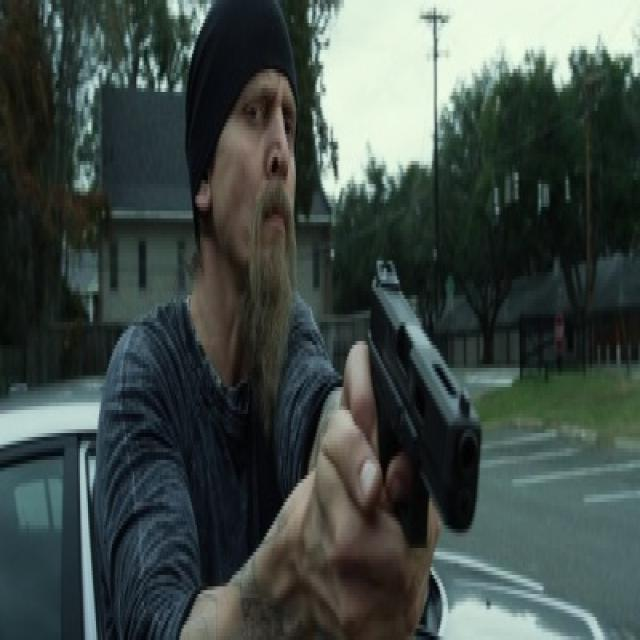weapons: (351, 230, 485, 633)
